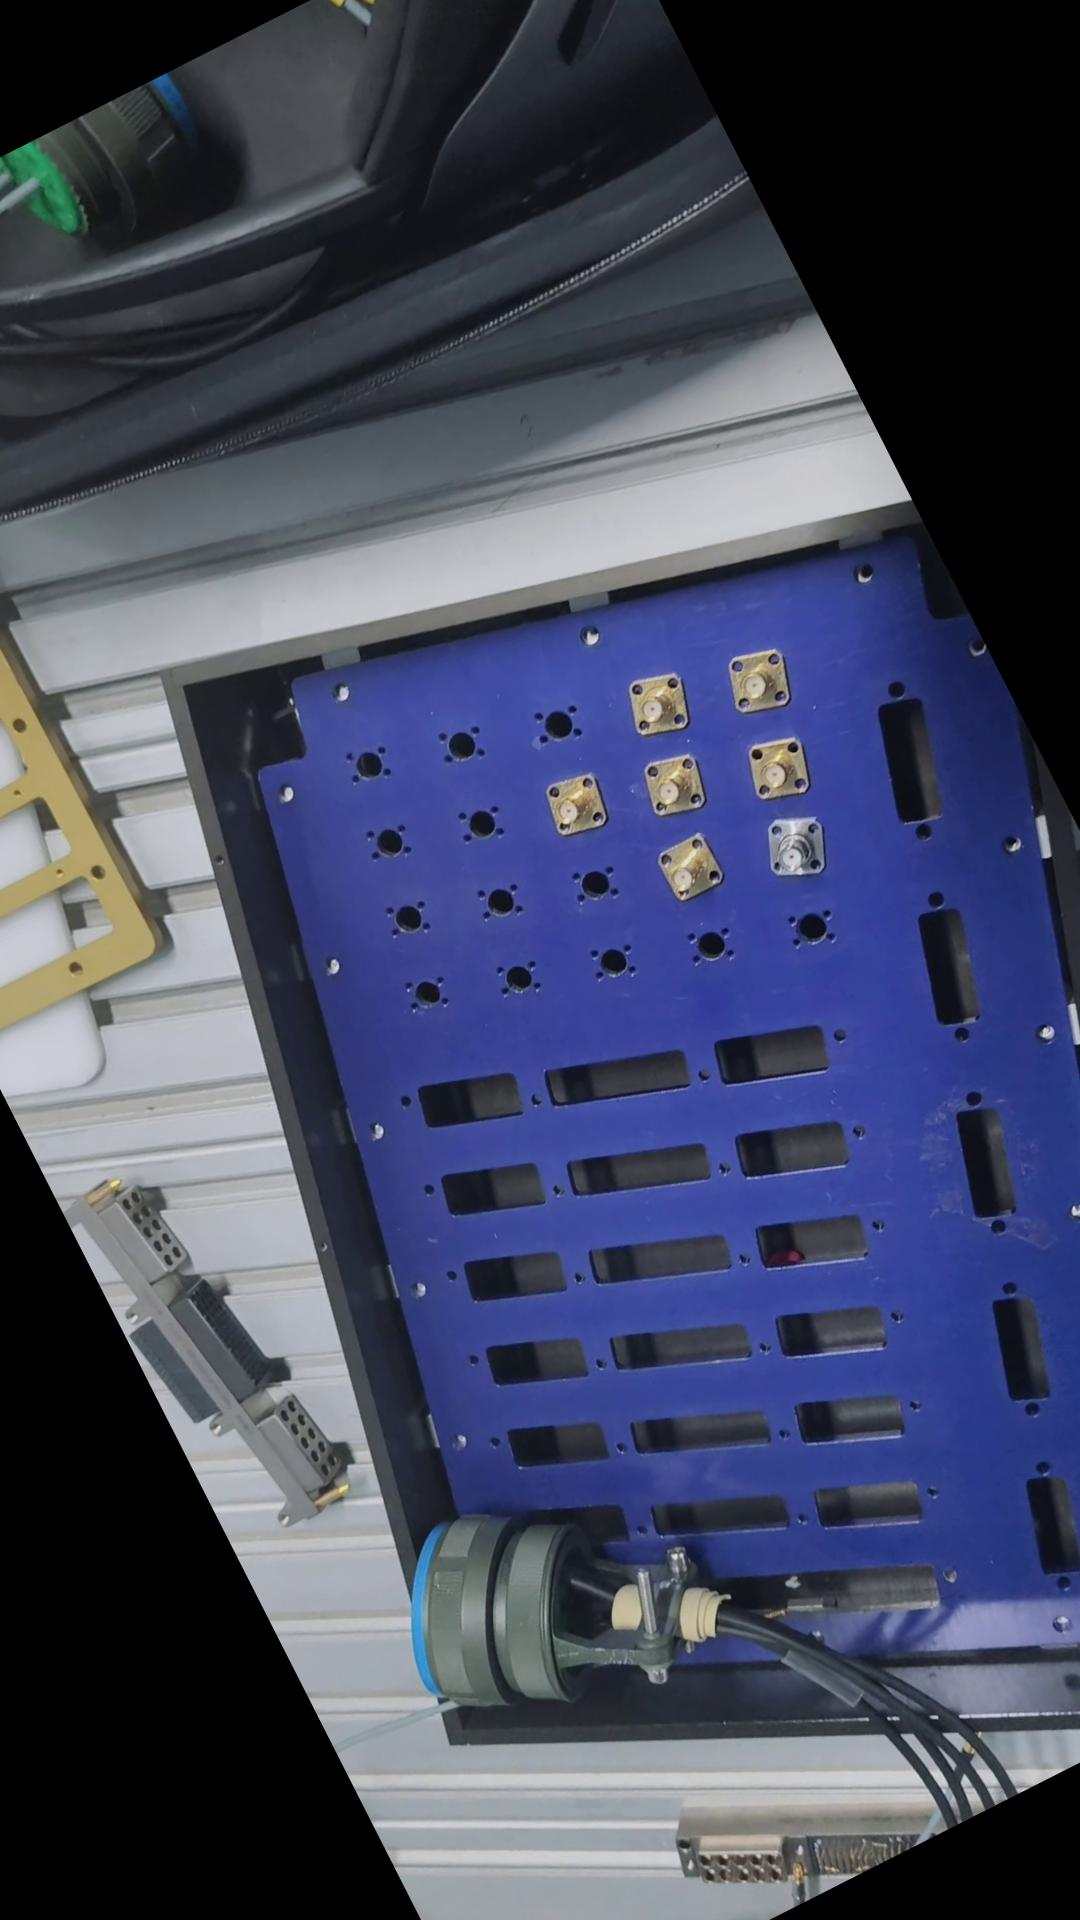SMA: (604, 663, 705, 754), (748, 800, 844, 891), (727, 721, 819, 811), (525, 764, 618, 852), (625, 742, 719, 829), (712, 637, 799, 725), (644, 829, 728, 911)
